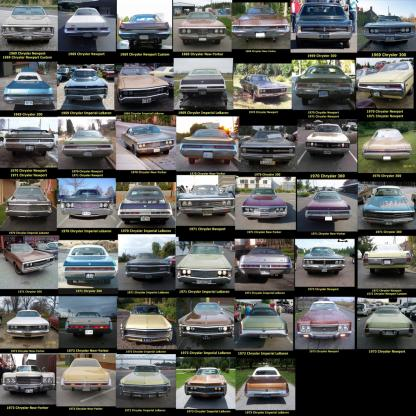Car: (299, 2, 354, 48), (179, 244, 234, 287), (231, 3, 290, 41), (297, 67, 356, 104), (358, 62, 415, 99), (299, 302, 354, 340), (179, 302, 235, 339), (122, 305, 176, 343), (240, 129, 297, 165), (181, 129, 236, 166), (117, 66, 170, 103), (3, 4, 54, 41), (119, 190, 174, 224), (367, 187, 415, 225), (178, 185, 236, 216), (65, 248, 115, 283), (63, 360, 114, 393), (123, 124, 174, 156), (362, 129, 413, 161), (122, 365, 171, 397), (242, 247, 292, 278), (241, 305, 289, 337), (66, 67, 111, 101), (6, 75, 53, 107), (365, 306, 413, 337), (4, 366, 56, 394), (66, 7, 111, 39), (365, 244, 413, 274), (5, 244, 56, 272), (8, 187, 54, 218), (61, 191, 111, 219), (179, 13, 225, 43), (244, 187, 288, 218), (307, 192, 350, 223), (1, 128, 56, 152), (246, 367, 290, 397), (241, 73, 287, 101), (63, 133, 112, 159), (121, 15, 170, 41), (7, 311, 51, 339), (126, 255, 174, 280), (368, 17, 416, 41), (187, 369, 228, 397), (306, 125, 347, 153), (181, 69, 226, 94), (66, 313, 113, 335), (303, 249, 347, 272)
